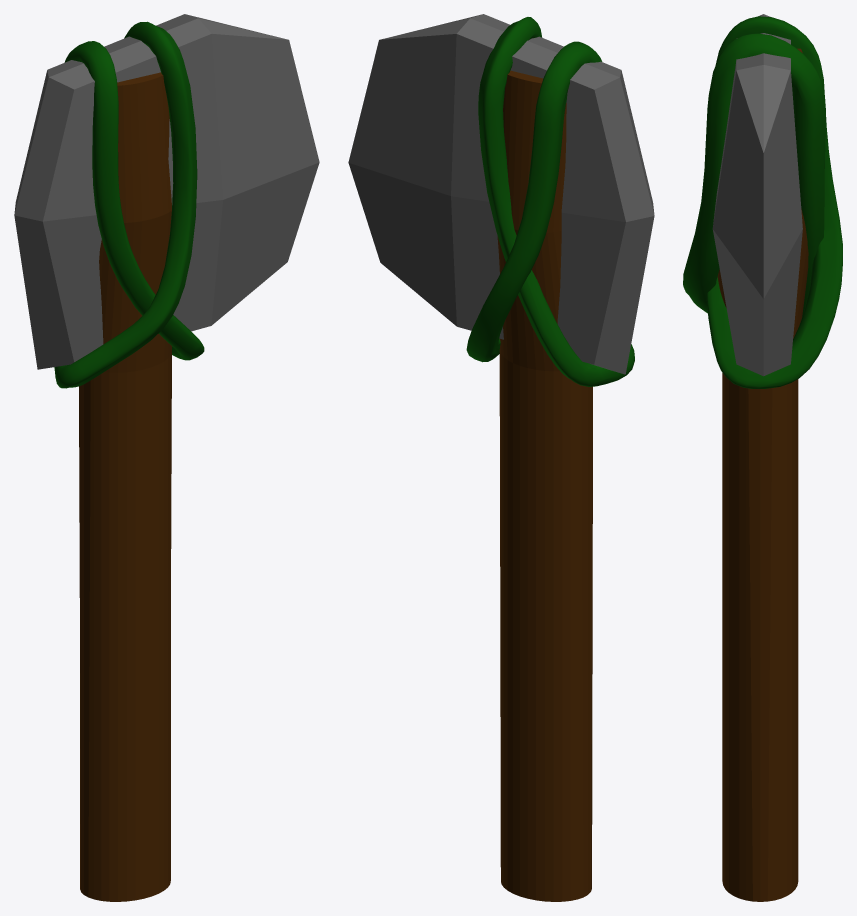
File: StoneAxe.fbx
3 views of the same model, side by side, from view 1: azimuth 30°, elevation 25°; view 2: azimuth 150°, elevation 25°; view 3: azimuth 270°, elevation 25° (orthographic).
Visible parts, largest first — view 1: StoneAxe; view 2: StoneAxe; view 3: StoneAxe.
Boxes of the visible parts, x1,y1,x2,y2 form: StoneAxe: [14, 14, 319, 901]; StoneAxe: [348, 14, 654, 901]; StoneAxe: [683, 14, 842, 901].
Bounding box in the file's own units: 217 × 582 × 97.96.
